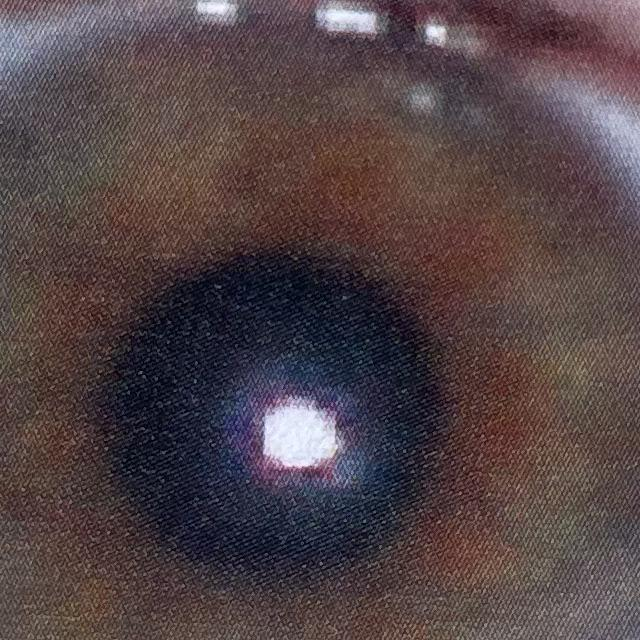eye: (0, 0, 640, 640)
iris: (0, 4, 640, 640)
